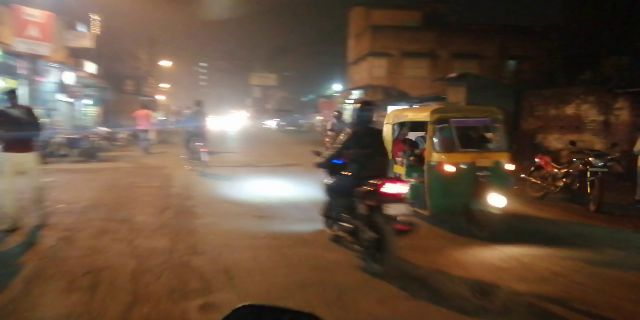Autorickshaw: (422, 99, 525, 231)
Motorbike: (309, 98, 417, 282)
